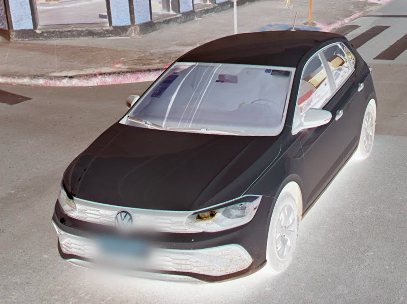car: (53, 30, 379, 284)
